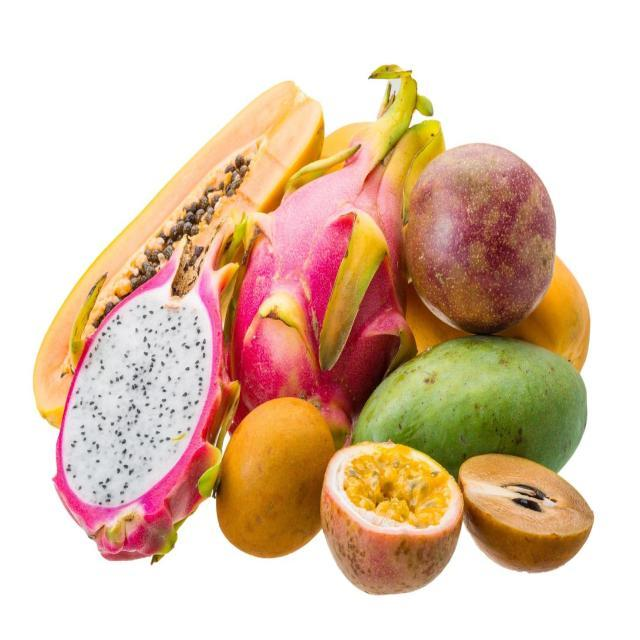dragon-fruit: (227, 162, 410, 450), (54, 272, 232, 554)
